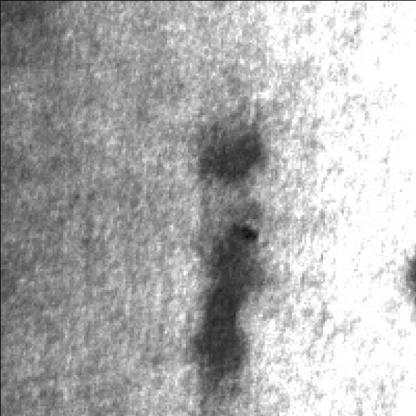patches: (189, 216, 267, 391), (194, 125, 262, 177)
